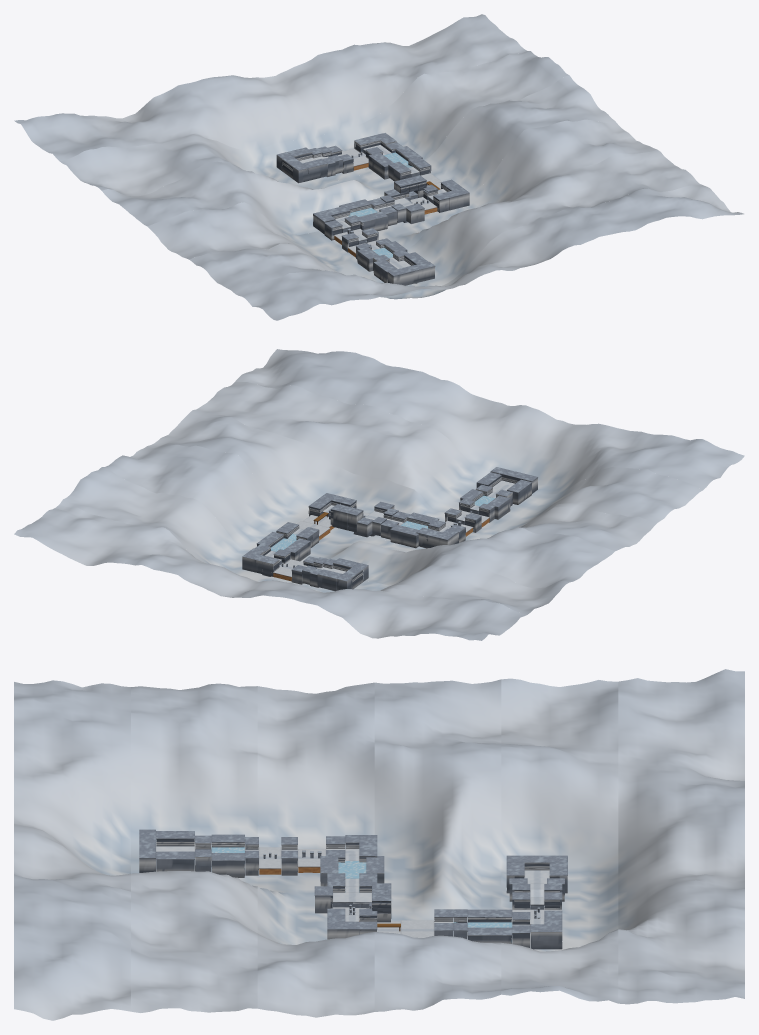
File: frozen_lake_terrain.glb
The picture shows the model from 3 angles, top to bottom: view 1: azimuth 30°, elevation 25°; view 2: azimuth 150°, elevation 25°; view 3: azimuth 270°, elevation 25°; orthographic projection. The views are drawn at different scales.
Visible parts, largest first — view 1: backdrop_5, backdrop_4, backdrop_3, backdrop_1, backdrop_2, backdrop_0, terrain_E, terrain_D, terrain_I, terrain_A, terrain_H, terrain_F (+3 smaller); view 2: backdrop_0, backdrop_1, backdrop_3, backdrop_5, backdrop_2, backdrop_4, terrain_D, terrain_E, terrain_H, terrain_I, terrain_G, terrain_B (+3 smaller); view 3: backdrop_5, backdrop_0, backdrop_3, backdrop_1, backdrop_4, backdrop_2, terrain_E, terrain_H, terrain_B, terrain_D, terrain_G, terrain_A (+3 smaller).
Part boxes in pixels (<box>): backdrop_5: <box>14,14,526,161</box>; backdrop_4: <box>60,51,568,196</box>; backdrop_3: <box>102,75,614,234</box>; backdrop_1: <box>189,149,701,297</box>; backdrop_2: <box>147,119,656,265</box>; backdrop_0: <box>235,185,743,320</box>; terrain_E: <box>380,175,449,223</box>; terrain_D: <box>313,198,397,234</box>; terrain_I: <box>276,147,335,183</box>; terrain_A: <box>373,252,435,285</box>; terrain_H: <box>317,133,396,173</box>; terrain_F: <box>393,160,469,210</box>; backdrop_0: <box>235,349,744,494</box>; backdrop_1: <box>190,381,702,529</box>; backdrop_3: <box>102,444,614,588</box>; backdrop_5: <box>14,504,526,640</box>; backdrop_2: <box>148,413,656,551</box>; backdrop_4: <box>60,467,569,614</box>; terrain_D: <box>380,511,458,548</box>; terrain_E: <box>328,498,398,537</box>; terrain_H: <box>242,548,328,584</box>; terrain_I: <box>309,558,368,591</box>; terrain_G: <box>255,527,312,563</box>; terrain_B: <box>459,484,512,522</box>; backdrop_5: <box>618,669,744,1004</box>; backdrop_0: <box>14,680,130,1020</box>; backdrop_3: <box>374,679,501,1011</box>; backdrop_1: <box>131,683,257,1012</box>; backdrop_4: <box>501,678,618,1003</box>; backdrop_2: <box>257,682,374,1017</box>; terrain_E: <box>314,880,391,922</box>; terrain_H: <box>512,884,562,949</box>; terrain_B: <box>195,834,258,877</box>; terrain_D: <box>320,835,384,892</box>; terrain_G: <box>453,909,530,947</box>; terrain_A: <box>139,829,194,872</box>.
Size of the model in its own units: 539 by 65.07 by 525.
